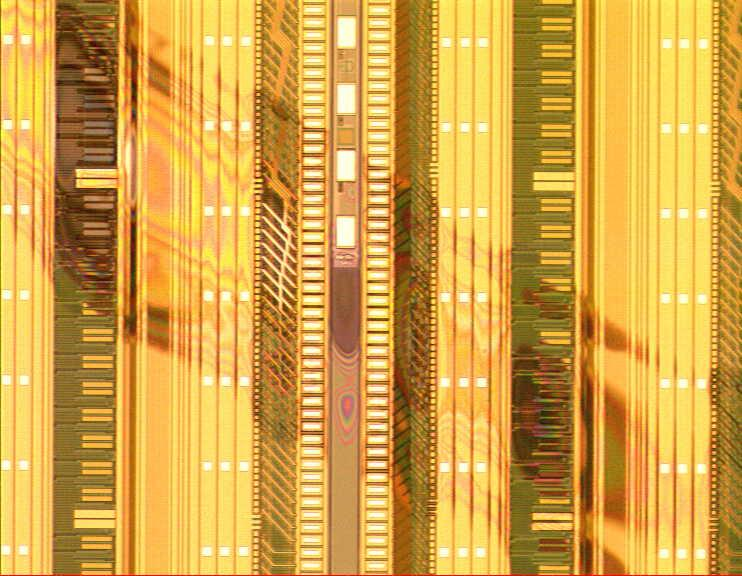COATING BAD: (1, 1, 741, 576)
